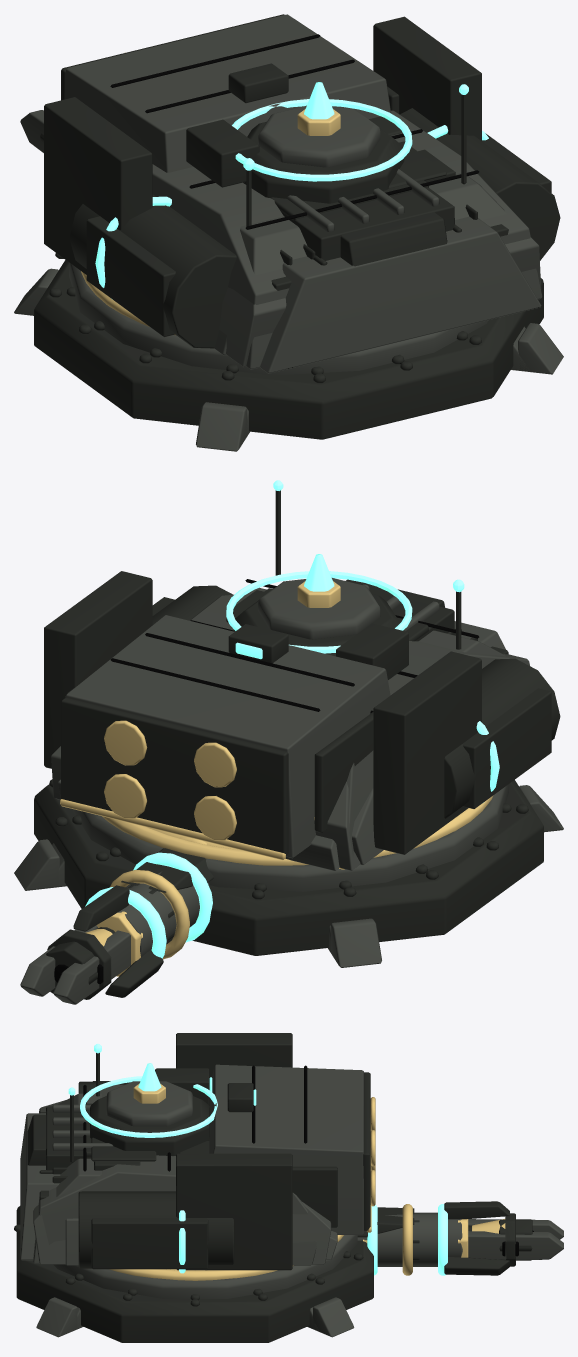
Rendered from turrets.glb.
3 renders of one model, top to bottom at view 1: azimuth 30°, elevation 25°; view 2: azimuth 150°, elevation 25°; view 3: azimuth 270°, elevation 25°, orthographic. The views are drawn at different scales.
Parts seen in each view (by area): view 1: TUR_launcher_BASE, TUR_rail_YAW, TUR_launcher_YAW, TUR_launcher_PITCH, TUR_plasma_YAW, TUR_cannon_YAW, TUR_beam_YAW, TUR_beam_BASE, TUR_rail_BARREL; view 2: TUR_launcher_PITCH, TUR_launcher_BASE, TUR_launcher_YAW, TUR_cannon_YAW, TUR_plasma_YAW, TUR_beam_YAW, TUR_plasma_BARREL, TUR_rail_BARREL, TUR_rail_YAW, TUR_cannon_BARREL, TUR_beam_BASE; view 3: TUR_launcher_BASE, TUR_launcher_PITCH, TUR_launcher_YAW, TUR_cannon_YAW, TUR_plasma_YAW, TUR_beam_YAW, TUR_plasma_BARREL, TUR_rail_BARREL, TUR_rail_YAW, TUR_beam_BASE, TUR_cannon_BARREL.
Boxes of the visible parts, x1=… form: TUR_launcher_BASE: x1=14, y1=253, x2=563, y2=451; TUR_rail_YAW: x1=260, y1=149, x2=541, y2=373; TUR_launcher_YAW: x1=44, y1=16, x2=481, y2=355; TUR_launcher_PITCH: x1=61, y1=14, x2=399, y2=172; TUR_plasma_YAW: x1=69, y1=108, x2=560, y2=366; TUR_cannon_YAW: x1=86, y1=84, x2=551, y2=369; TUR_beam_YAW: x1=232, y1=82, x2=477, y2=265; TUR_beam_BASE: x1=66, y1=287, x2=529, y2=440; TUR_rail_BARREL: x1=20, y1=110, x2=43, y2=152; TUR_launcher_PITCH: x1=60, y1=615, x2=390, y2=860; TUR_launcher_BASE: x1=14, y1=779, x2=563, y2=967; TUR_launcher_YAW: x1=44, y1=571, x2=481, y2=865; TUR_cannon_YAW: x1=152, y1=480, x2=551, y2=857; TUR_plasma_YAW: x1=51, y1=585, x2=560, y2=870; TUR_beam_YAW: x1=226, y1=554, x2=477, y2=656; TUR_plasma_BARREL: x1=73, y1=836, x2=212, y2=997; TUR_rail_BARREL: x1=20, y1=848, x2=204, y2=1004; TUR_rail_YAW: x1=58, y1=579, x2=508, y2=870; TUR_cannon_BARREL: x1=46, y1=928, x2=113, y2=993; TUR_beam_BASE: x1=52, y1=803, x2=511, y2=952; TUR_launcher_BASE: x1=14, y1=1206, x2=373, y2=1342; TUR_launcher_PITCH: x1=209, y1=1064, x2=375, y2=1234; TUR_launcher_YAW: x1=46, y1=1033, x2=317, y2=1270; TUR_cannon_YAW: x1=33, y1=1068, x2=307, y2=1269; TUR_plasma_YAW: x1=33, y1=1081, x2=331, y2=1273; TUR_beam_YAW: x1=52, y1=1063, x2=217, y2=1183; TUR_plasma_BARREL: x1=357, y1=1201, x2=509, y2=1275; TUR_rail_BARREL: x1=363, y1=1207, x2=563, y2=1266; TUR_rail_YAW: x1=20, y1=1112, x2=337, y2=1260; TUR_beam_BASE: x1=69, y1=1251, x2=350, y2=1332; TUR_cannon_BARREL: x1=469, y1=1219, x2=533, y2=1260.
Bounding box in the file's own units: 2.8 × 1.86 × 4.24.
